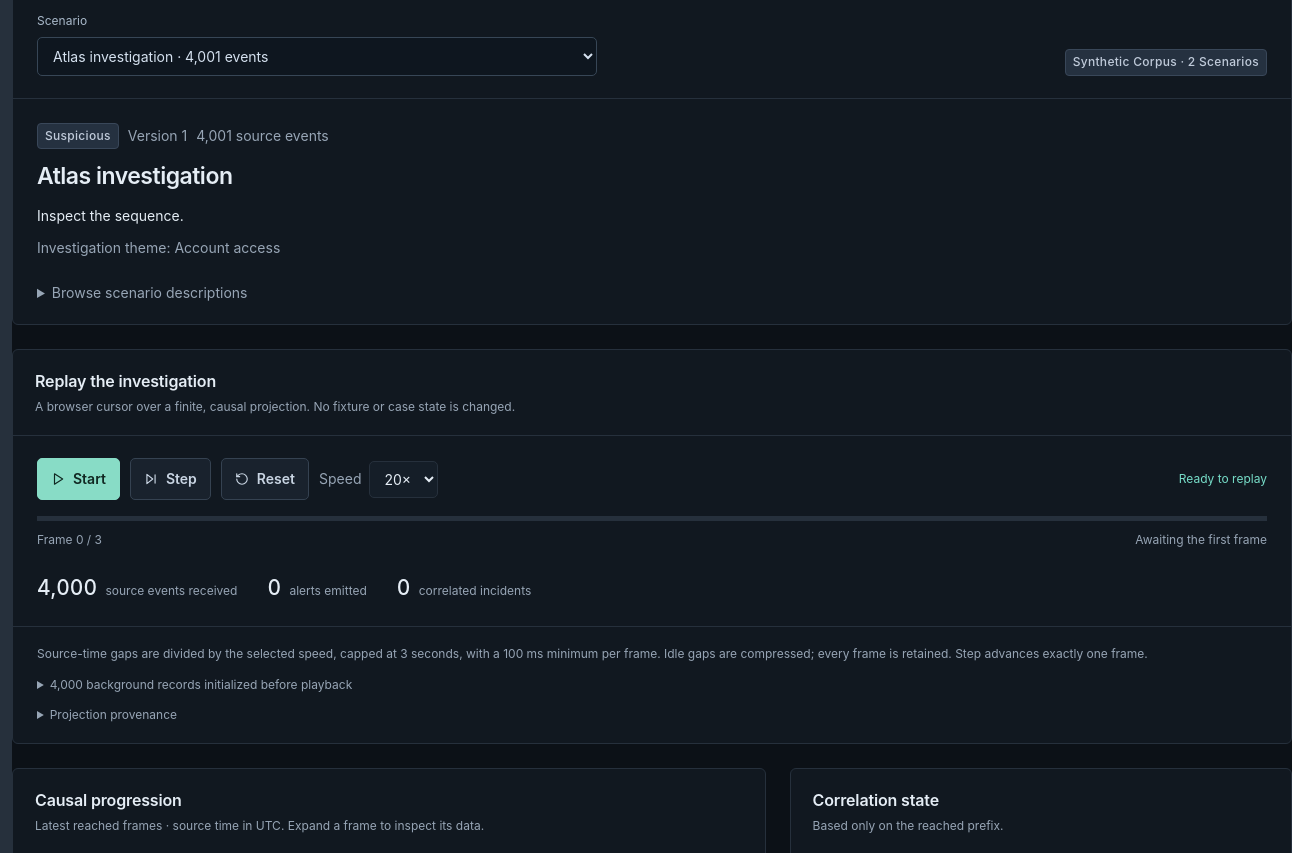
Scenario: retains the aggregate policy explanation for older replay responses without receipts
Expected: the button "Start" is enabled, [37,458,120,500]
Click the button "Step" at (170,479), box [130,458,211,500]
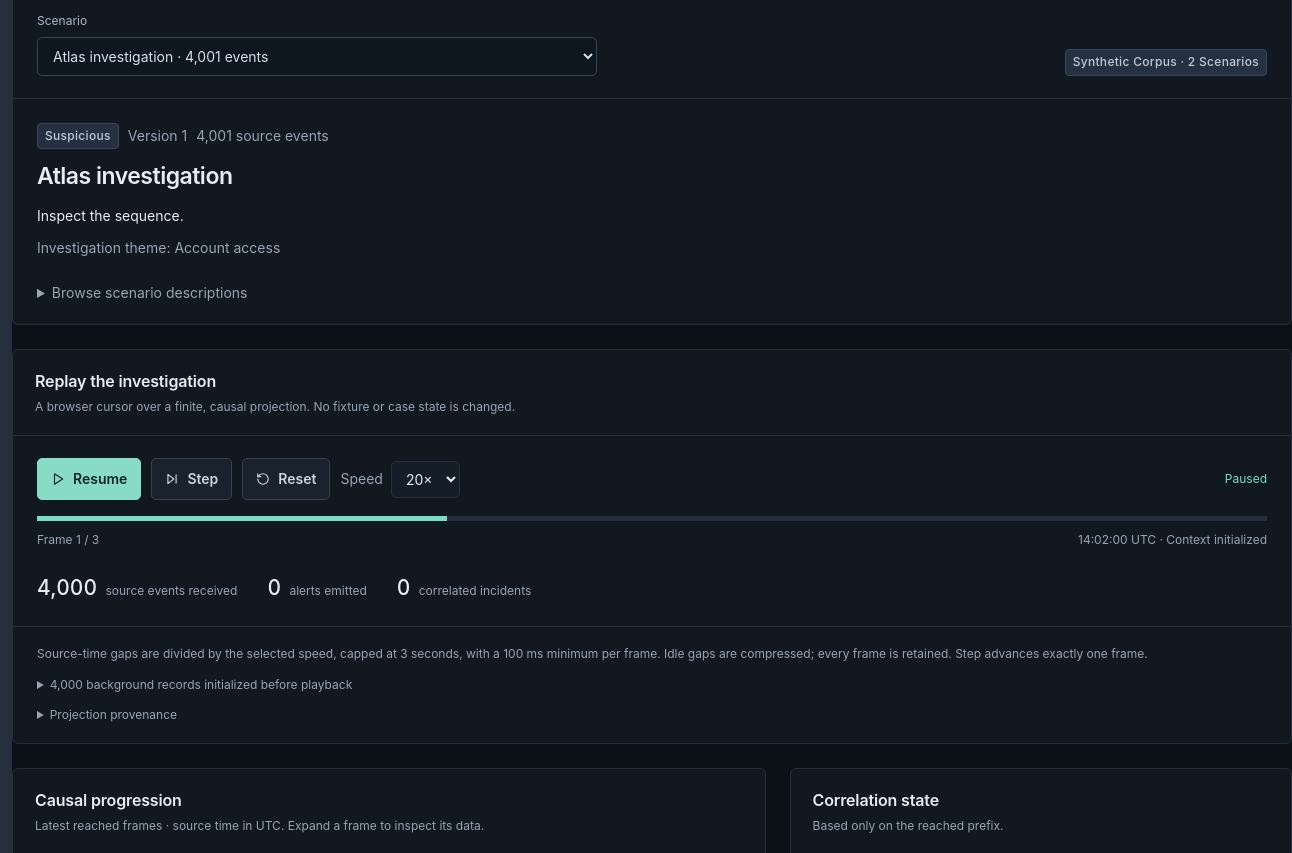
Click the button "Step" at (192,479), box [151,458,232,500]
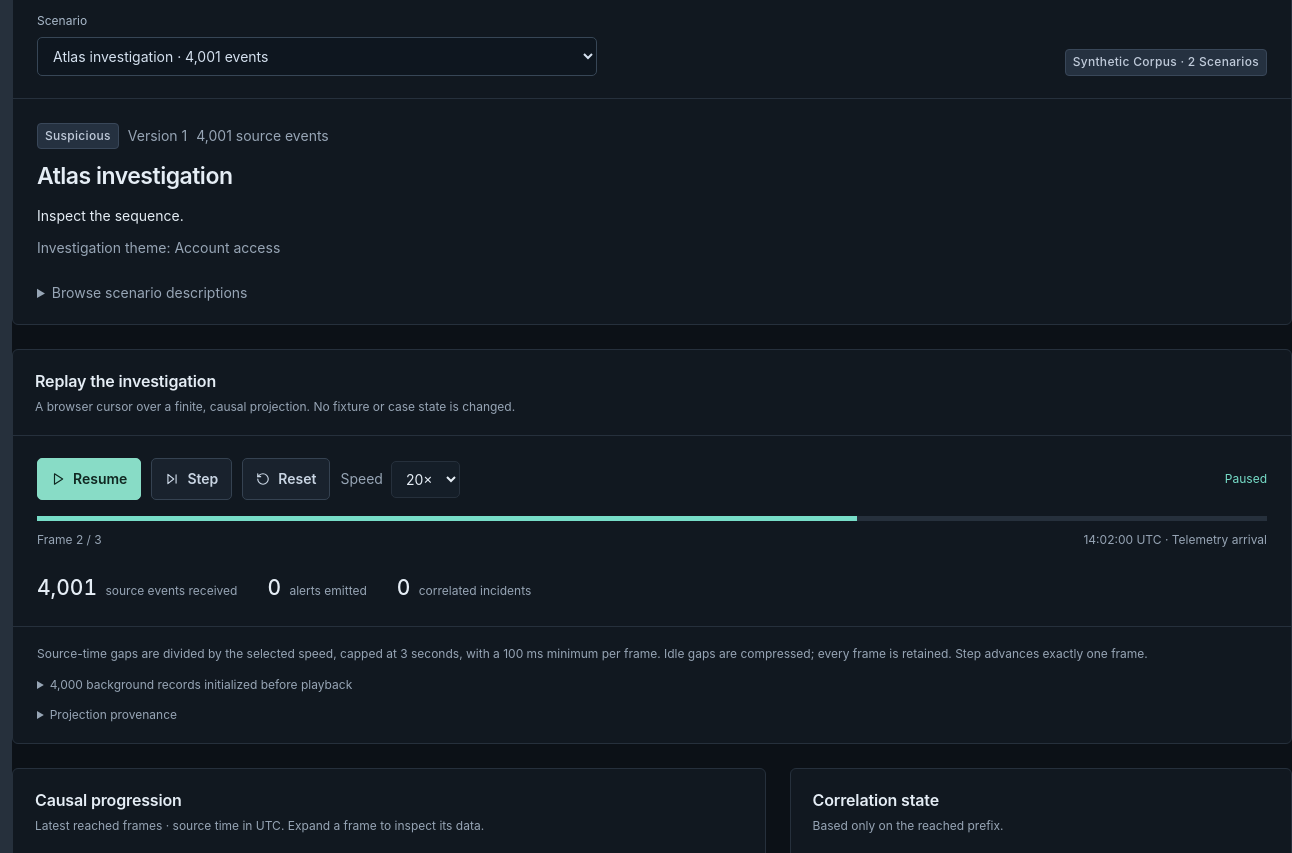
Click the button "Step" at (192,479), box [151,458,232,500]
(page scrolled)
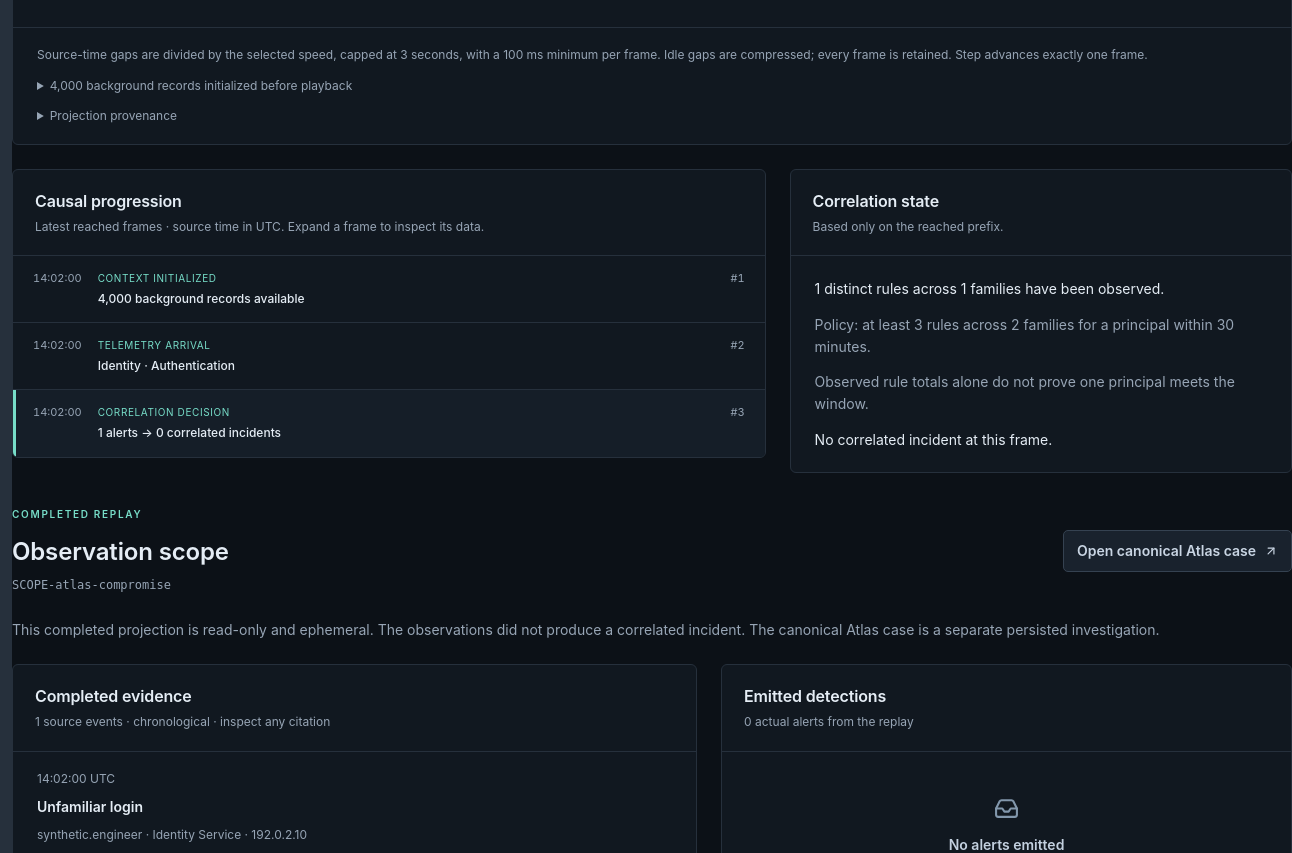
Now the text "1 distinct rules across 1 families have been observed." is shown, box [815,280,1164,297]
Now the text "Observed rule totals alone" is shown, box [815,373,1235,412]
Now the text "No correlated incident at this frame." is shown, box [815,431,1052,448]
